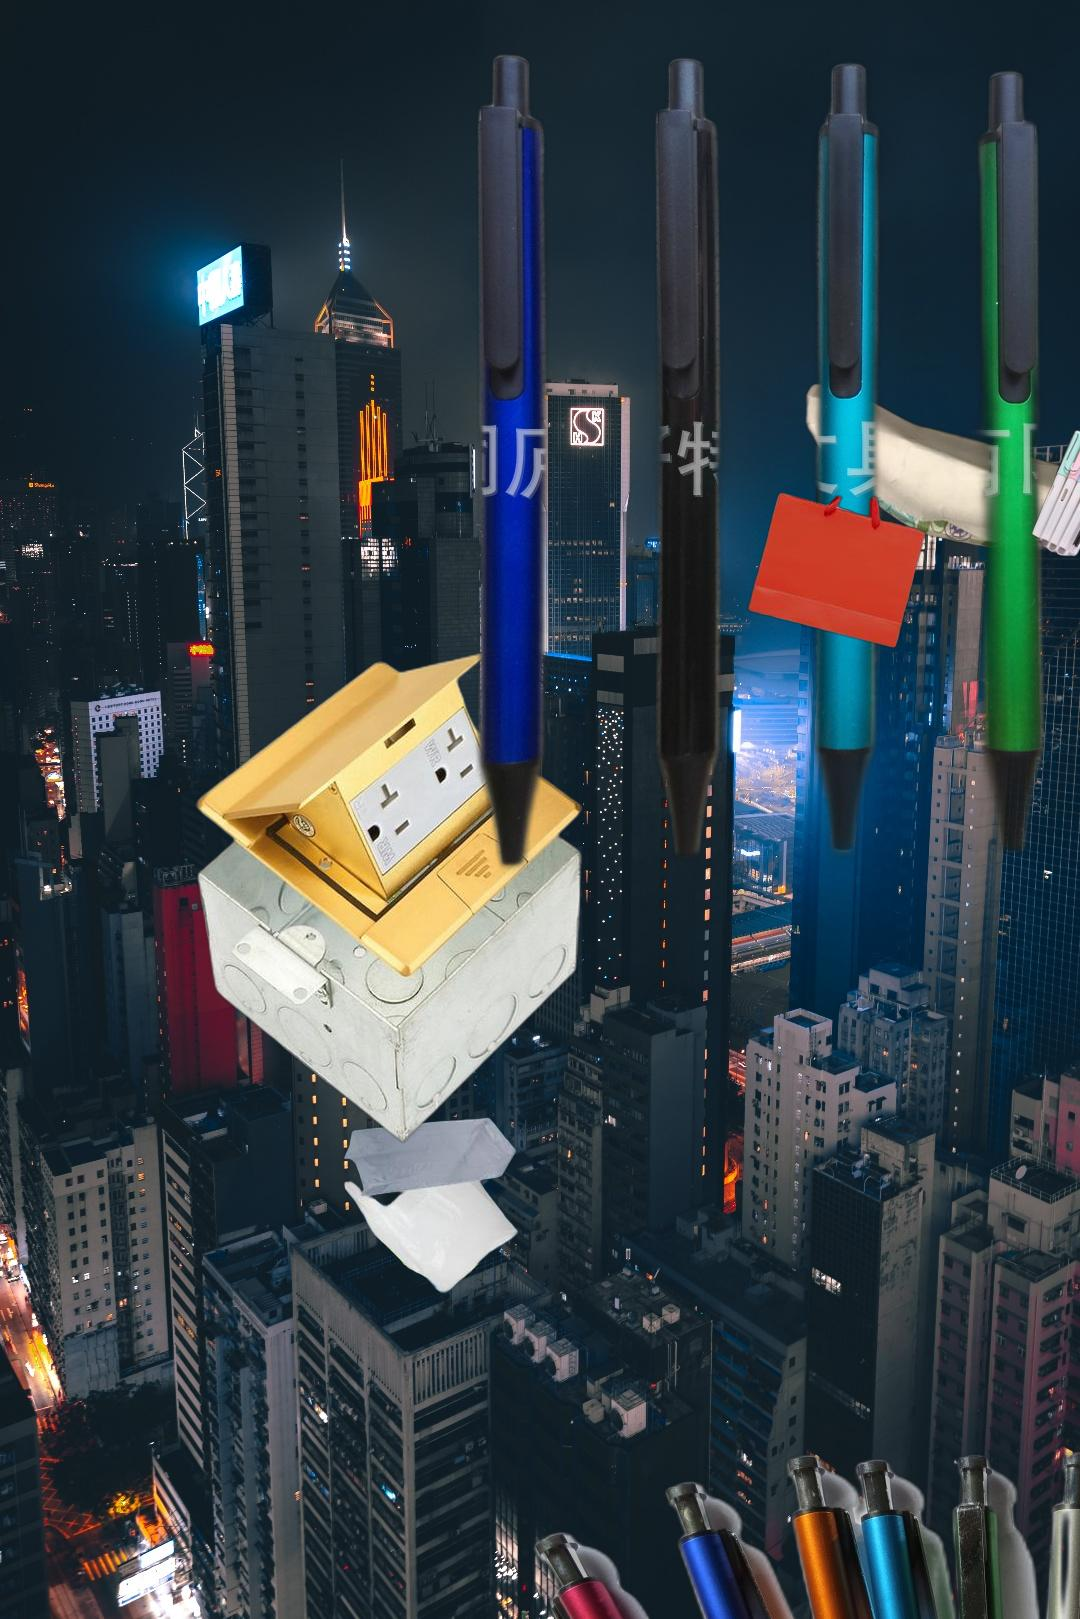paper: (802, 381, 1080, 552), (1078, 49, 1080, 417)
paper-bag: (673, 489, 928, 758)
penholder: (413, 46, 1080, 934), (524, 1445, 1080, 1619), (1017, 428, 1080, 558)
plastic-bag: (342, 1115, 521, 1309)
trashbox-cardboard: (190, 646, 586, 1146)
